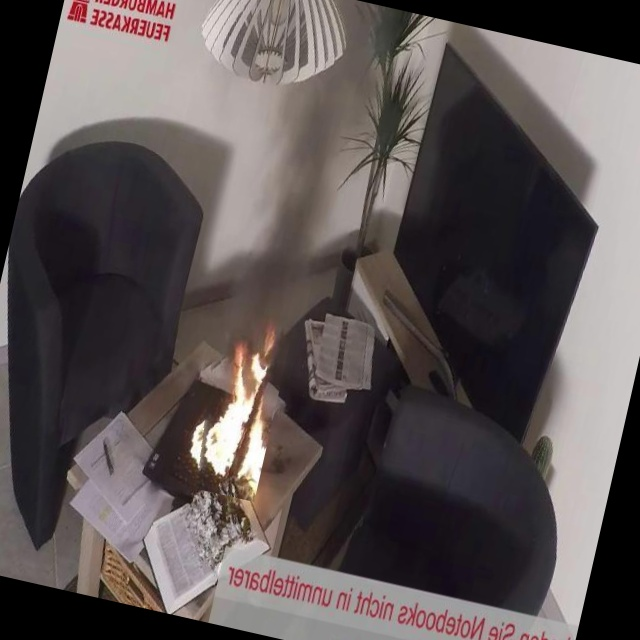fire: (155, 305, 337, 525)
